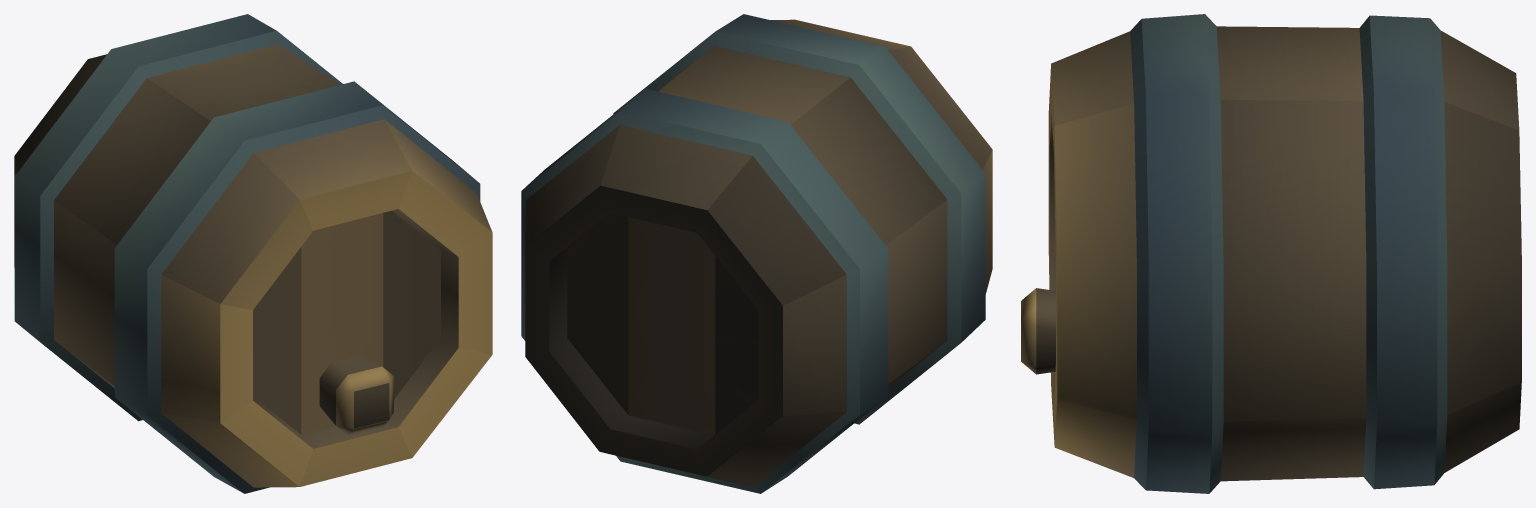
Rendered from kask.fbx.
3 renders of one model, left to right at view 1: azimuth 30°, elevation 25°; view 2: azimuth 150°, elevation 25°; view 3: azimuth 270°, elevation 25°, orthographic. The views are drawn at different scales.
Parts seen in each view (by area): view 1: kask; view 2: kask; view 3: kask.
Boxes of the visible parts, left/top/right/bottom form: kask: left=14, top=14, right=492, bottom=493; kask: left=521, top=14, right=992, bottom=493; kask: left=1021, top=14, right=1521, bottom=493.
Bounding box in the file's own units: 91.03 × 90.86 × 103.
